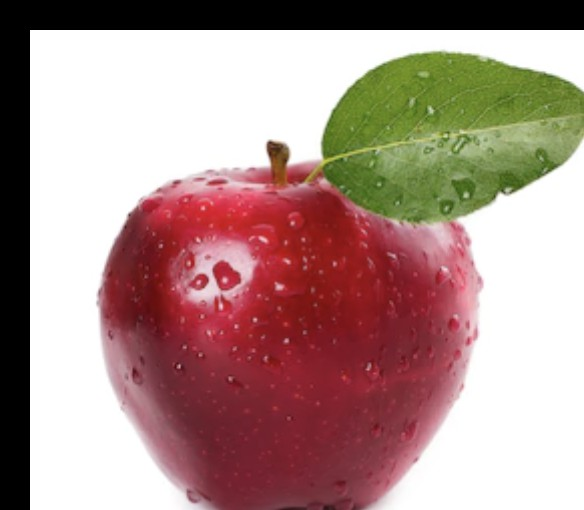fresh_apple: (100, 158, 479, 510)
